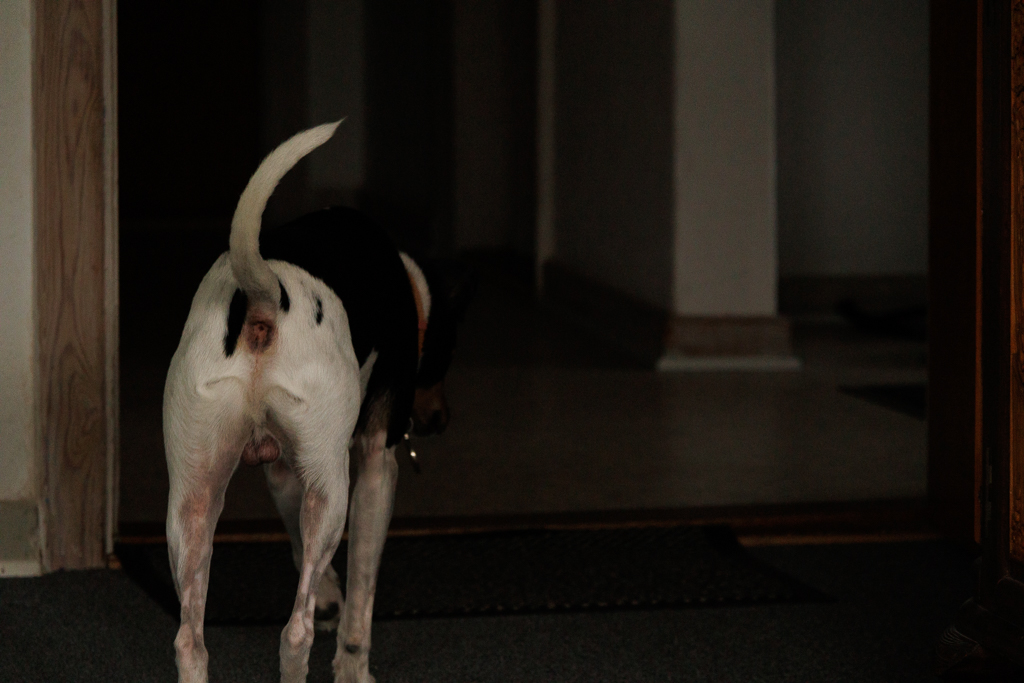Dog: (152, 107, 469, 683)
